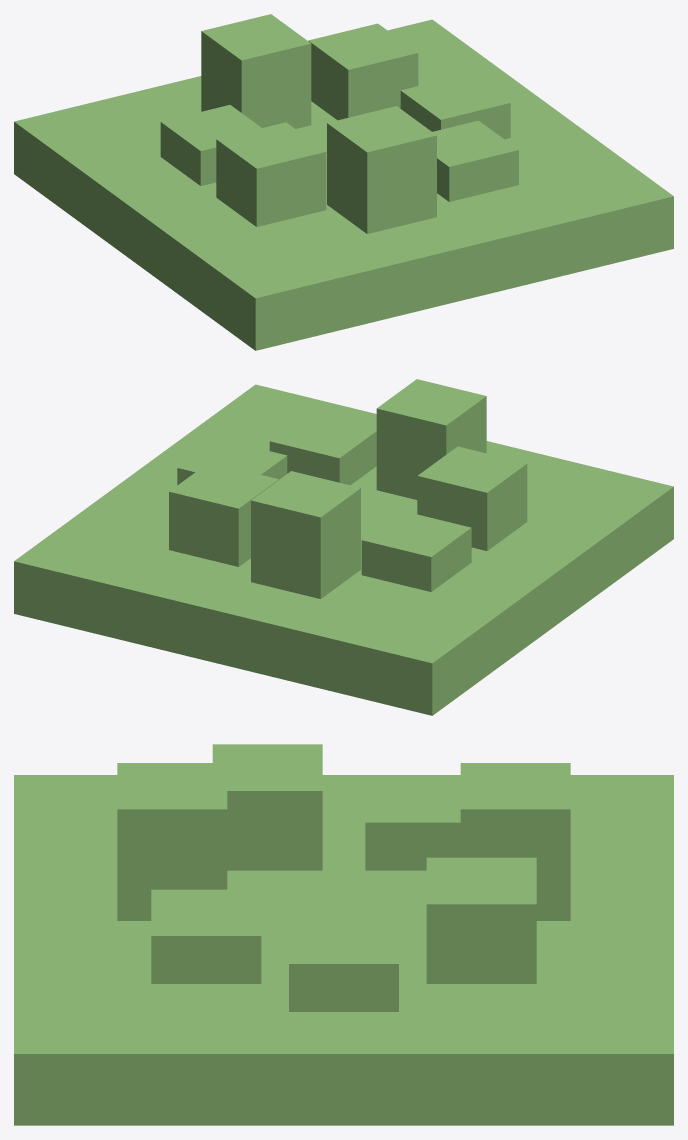
Rendered from grassland.glb.
3 renders of one model, top to bottom at view 1: azimuth 30°, elevation 25°; view 2: azimuth 150°, elevation 25°; view 3: azimuth 270°, elevation 25°, orthographic. The views are drawn at different scales.
Parts seen in each view (by area): view 1: grassland base, grassland relief.005, grassland relief.002, grassland relief.004, grassland relief.001, grassland relief.006, grassland relief, grassland relief.003; view 2: grassland base, grassland relief.002, grassland relief.005, grassland relief.004, grassland relief.001, grassland relief.003, grassland relief.006, grassland relief; view 3: grassland base, grassland relief.005, grassland relief.001, grassland relief.002, grassland relief.004, grassland relief.006, grassland relief, grassland relief.003.
Boxes of the visible parts, bbox=[...] form: grassland base: bbox=[14, 19, 673, 350]; grassland relief.005: bbox=[327, 106, 436, 233]; grassland relief.002: bbox=[201, 14, 311, 128]; grassland relief.004: bbox=[216, 122, 326, 226]; grassland relief.001: bbox=[308, 23, 418, 120]; grassland relief.006: bbox=[432, 120, 518, 201]; grassland relief: bbox=[400, 73, 510, 139]; grassland relief.003: bbox=[160, 105, 261, 185]; grassland base: bbox=[14, 384, 673, 715]; grassland relief.002: bbox=[251, 471, 360, 598]; grassland relief.005: bbox=[376, 379, 486, 499]; grassland relief.004: bbox=[417, 446, 527, 550]; grassland relief.001: bbox=[169, 462, 278, 566]; grassland relief.003: bbox=[361, 510, 471, 591]; grassland relief.006: bbox=[269, 412, 376, 485]; grassland relief: bbox=[177, 438, 287, 485]; grassland base: bbox=[14, 775, 673, 1125]; grassland relief.005: bbox=[117, 763, 227, 920]; grassland relief.001: bbox=[426, 857, 536, 983]; grassland relief.002: bbox=[460, 763, 570, 920]; grassland relief.004: bbox=[212, 744, 322, 870]; grassland relief.006: bbox=[151, 889, 261, 983]; grassland relief: bbox=[289, 917, 398, 1011]; grassland relief.003: bbox=[365, 776, 460, 870].
Size of the model in its own units: 3 by 0.92 by 3.
